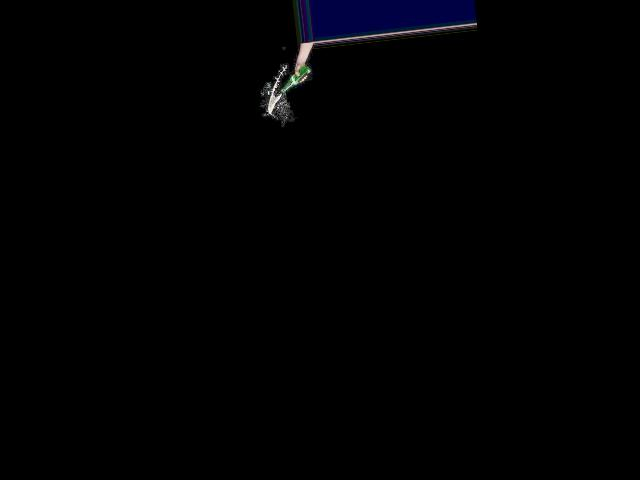beer: (279, 64, 313, 93)
